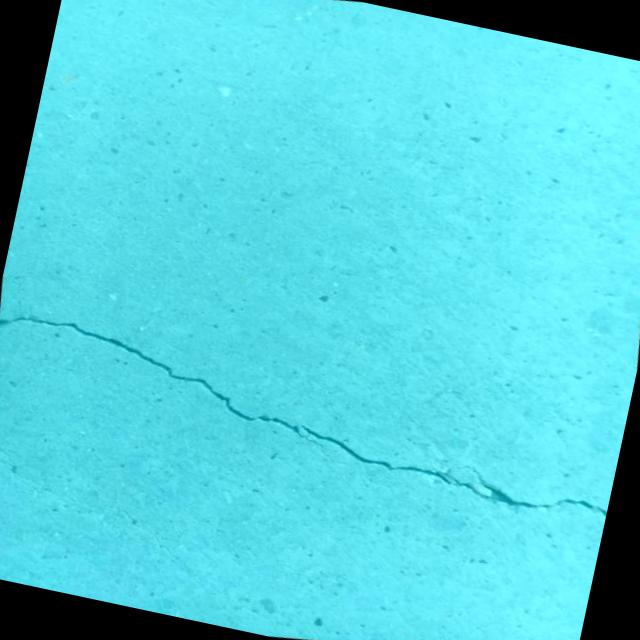crack: (0, 236, 637, 601)
